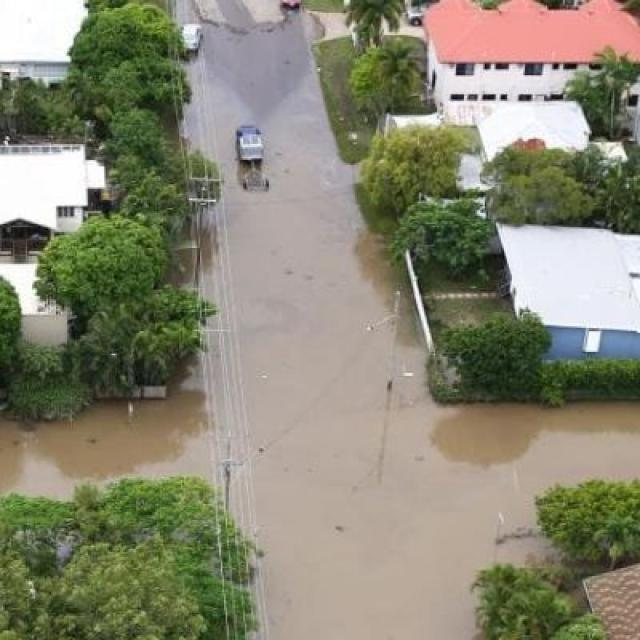flooded_areas: (0, 107, 632, 611)
